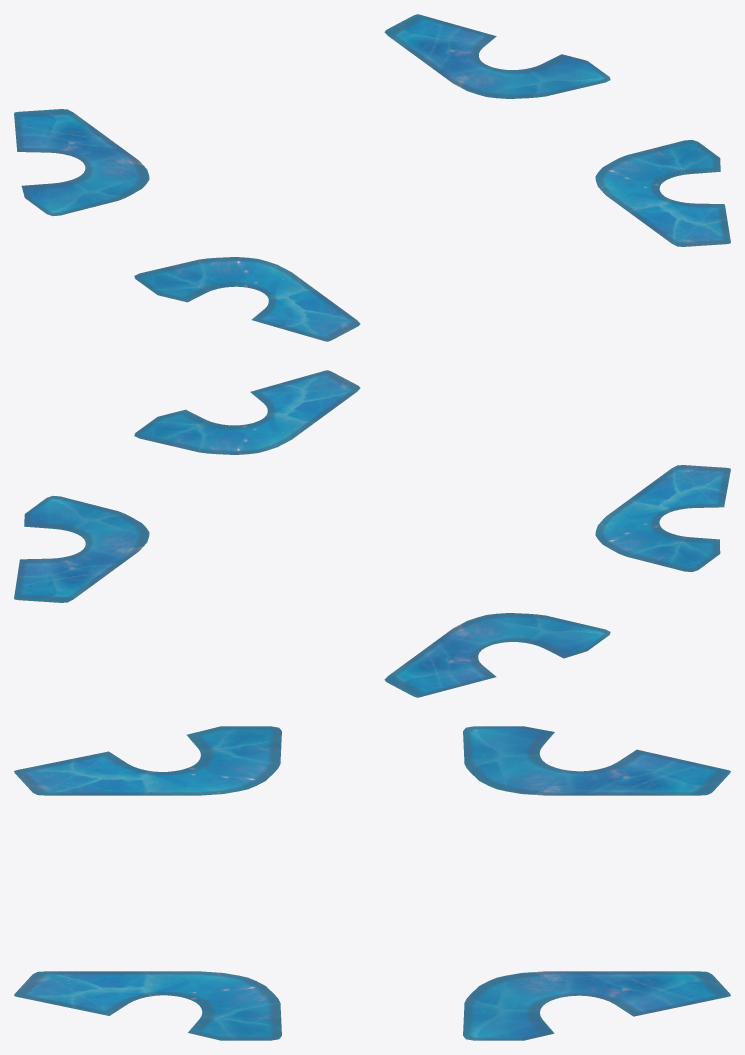
File: pref_sm_beach_winter_icewater01_lv2.fbx
3 renders of one model, top to bottom at view 1: azimuth 30°, elevation 25°; view 2: azimuth 150°, elevation 25°; view 3: azimuth 270°, elevation 25°, orthographic. The views are drawn at different scales.
Parts seen in each view (by area): view 1: pref_sm_beach_winter_icewater01_lv2; view 2: pref_sm_beach_winter_icewater01_lv2; view 3: pref_sm_beach_winter_icewater01_lv2.
Boxes of the visible parts, x1=… form: pref_sm_beach_winter_icewater01_lv2: x1=14, y1=14, x2=730, y2=341; pref_sm_beach_winter_icewater01_lv2: x1=14, y1=370, x2=730, y2=697; pref_sm_beach_winter_icewater01_lv2: x1=14, y1=726, x2=730, y2=1040.
Bounding box in the file's own units: 38.09 × 1.08e-05 × 36.72.
